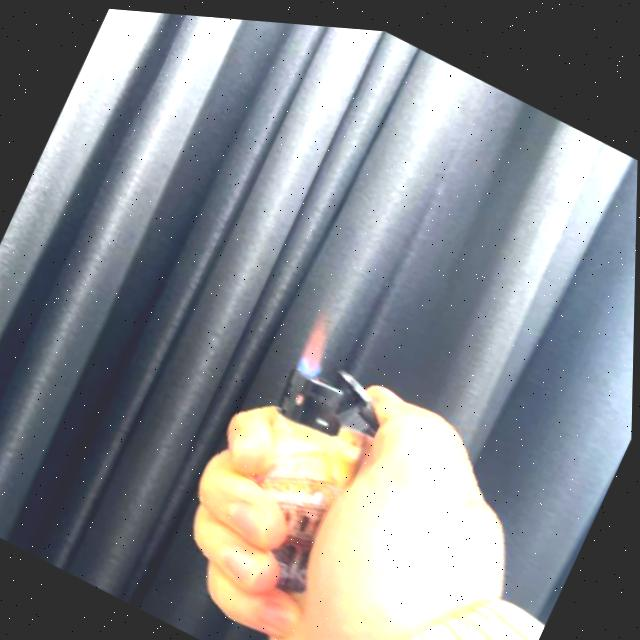Fire: (292, 300, 348, 378)
